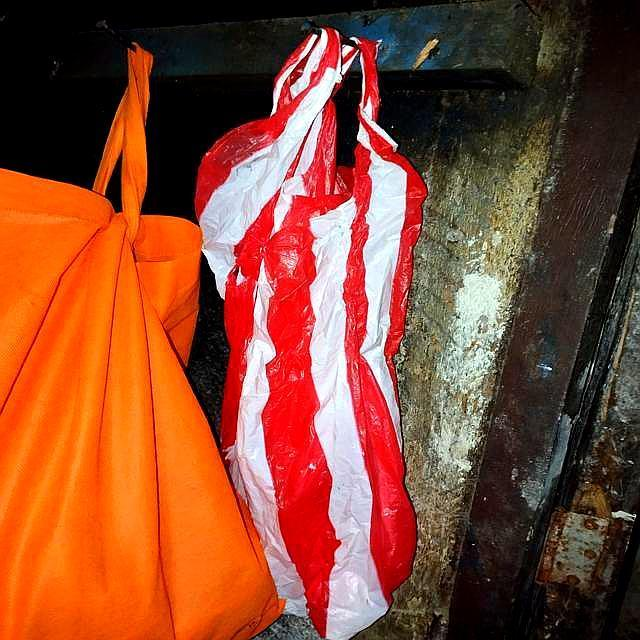Non-biodegradable: (193, 24, 431, 638)
